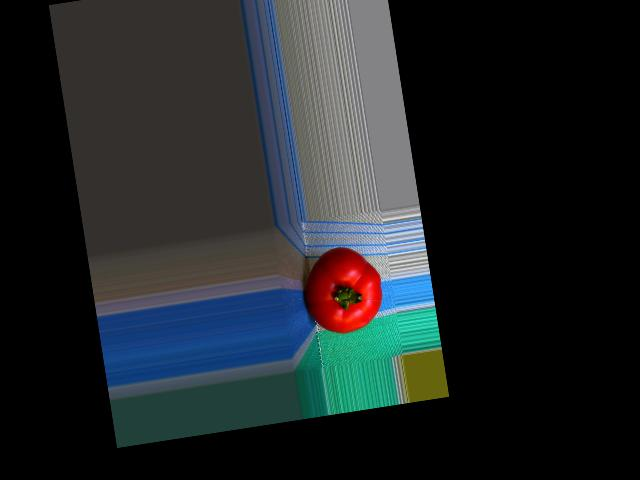tomato: (298, 242, 388, 338)
